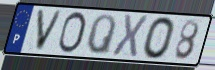8: (173, 18, 201, 61)
O: (141, 16, 177, 61), (56, 10, 88, 55)
Q: (84, 13, 118, 57)
V: (34, 7, 65, 53)
X: (110, 13, 149, 59)
